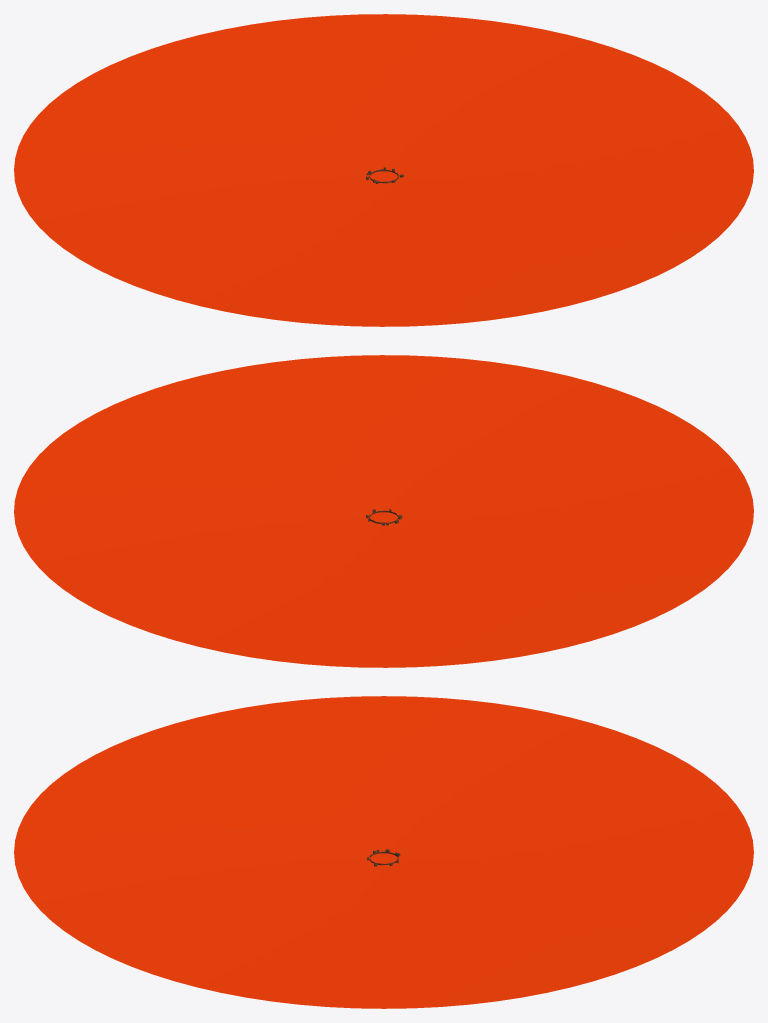
Rendered from MagmaCavern_Walls.FBX.
3 renders of one model, top to bottom at view 1: azimuth 30°, elevation 25°; view 2: azimuth 150°, elevation 25°; view 3: azimuth 270°, elevation 25°, orthographic.
Visible parts, largest first — view 1: MagmaCavern_Walls; view 2: MagmaCavern_Walls; view 3: MagmaCavern_Walls.
Part boxes in pixels (x1=…): MagmaCavern_Walls: x1=14, y1=14, x2=753, y2=326; MagmaCavern_Walls: x1=14, y1=355, x2=753, y2=667; MagmaCavern_Walls: x1=14, y1=696, x2=753, y2=1008.
Size of the model in its own units: 261430 by 3061 by 261430.
